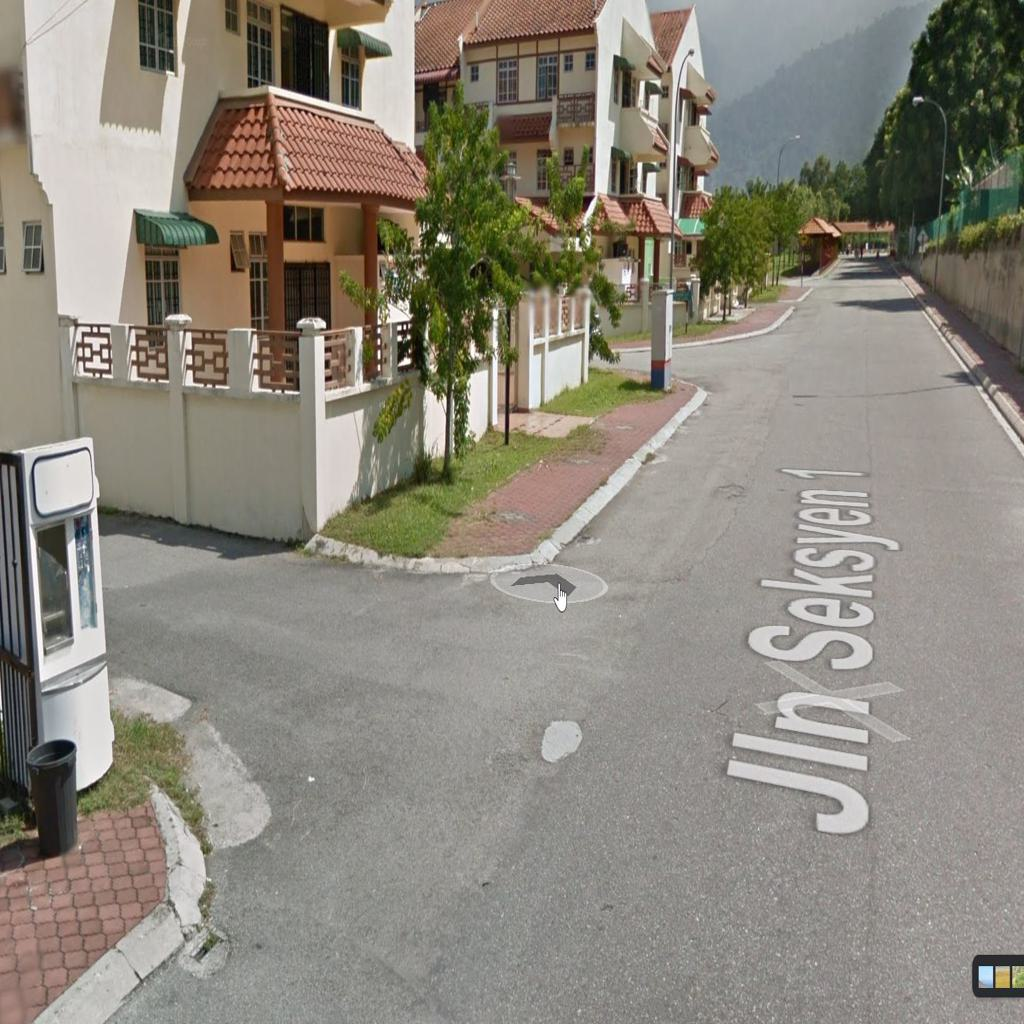Junction: (110, 510, 574, 850)
